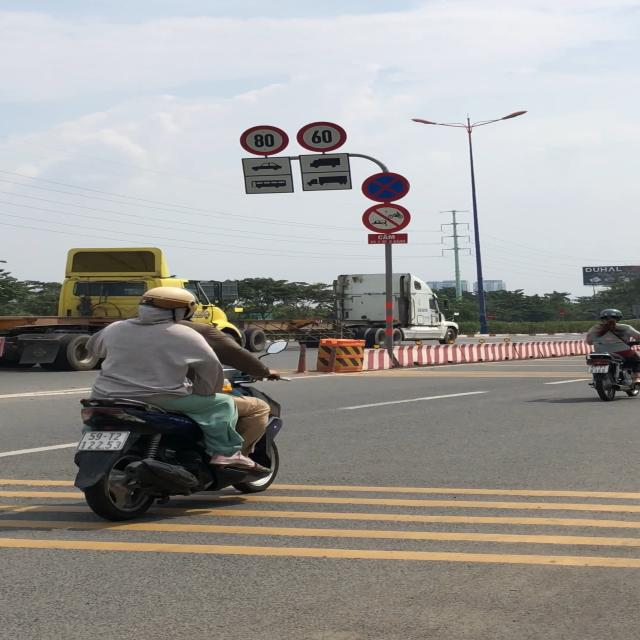Bien bao cam dung xe va do xe: (360, 171, 413, 203)
Bien bao toc do toi da cho phep: (238, 123, 292, 158), (294, 121, 350, 153)
